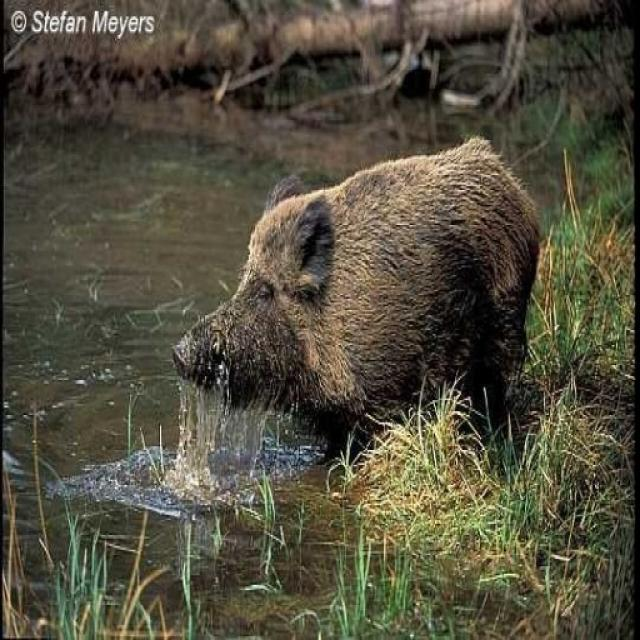pig: (154, 102, 560, 507)
